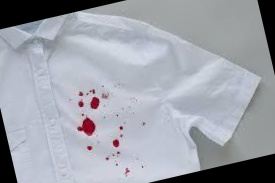blood: (79, 117, 97, 137), (86, 87, 101, 110), (76, 90, 88, 108), (117, 124, 127, 138), (110, 137, 121, 149), (86, 143, 94, 152)
